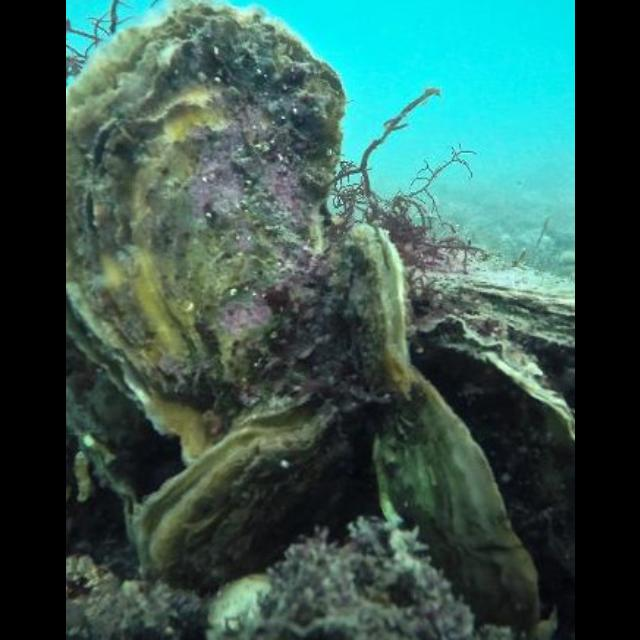Oyster-Closed: (65, 4, 348, 459), (418, 274, 574, 371)
Oyster-Open: (372, 303, 574, 640), (124, 401, 366, 592), (333, 224, 414, 400)
